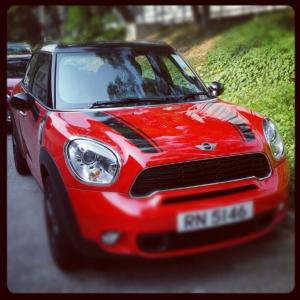Vehicle-registration-plate: (177, 201, 254, 233)
